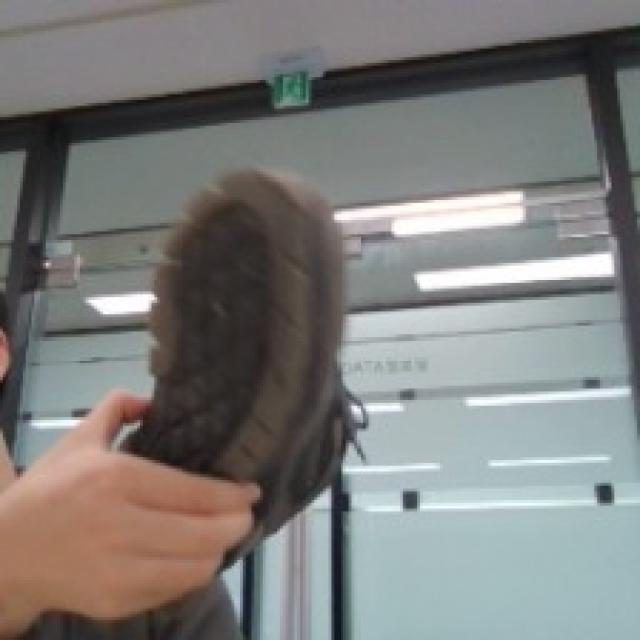shoes: (45, 114, 437, 536)
